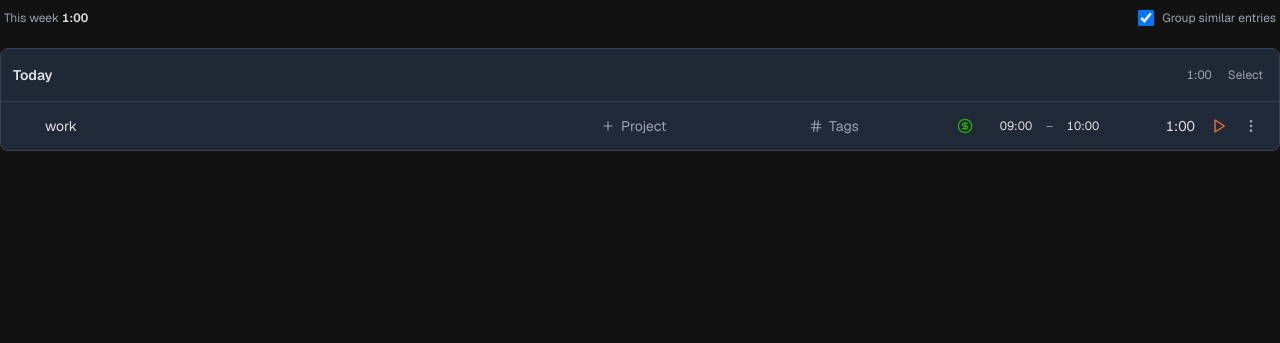
Scenario: creating an entity from an entry row keeps it and the link › a new project is saved, not just referenced
This screenshot has width=1280, height=343.
Click the button "Project": x=693, y=126 [593, 110, 793, 142]
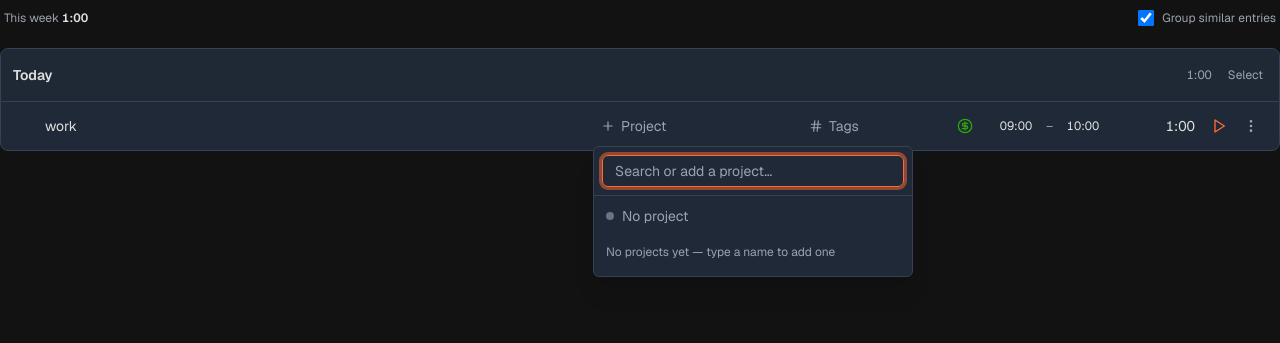
In the field with placeholder "Search or add a project…": x=753, y=171 [602, 155, 904, 187], type "Book"
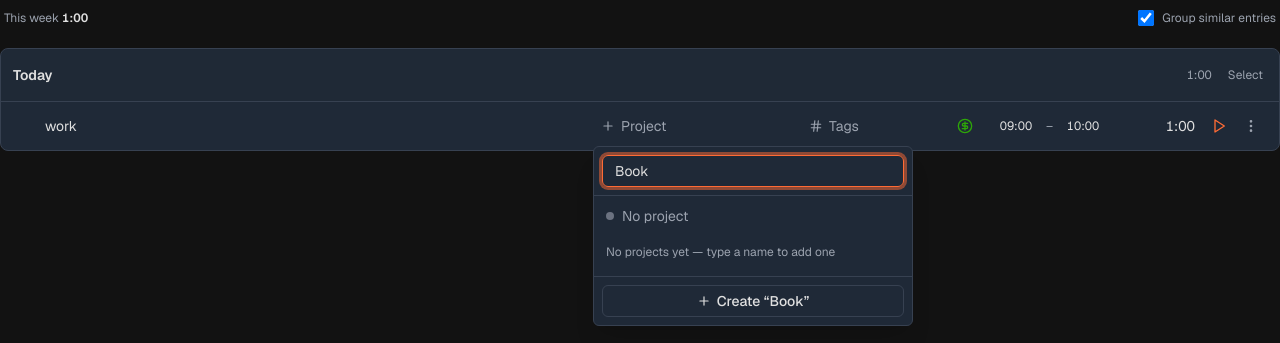
Click the button "Create “Book”": x=753, y=301 [602, 285, 904, 317]
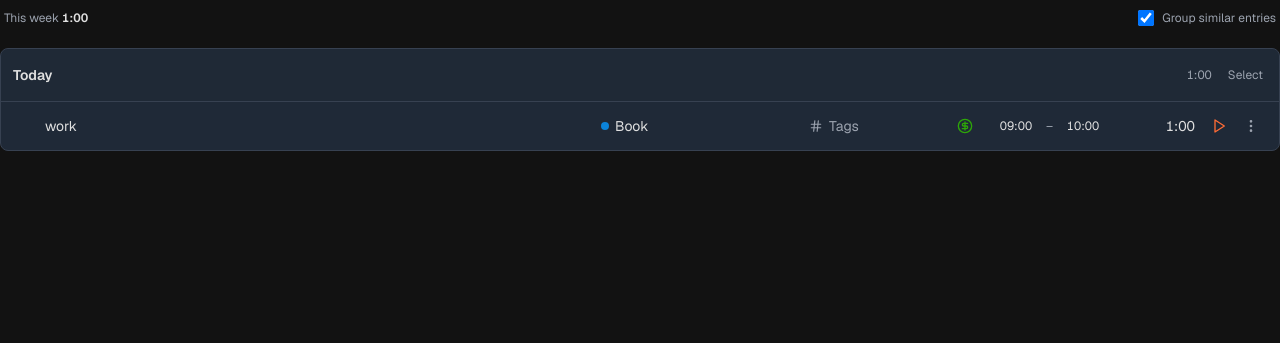
Expected: the text "Book" is shown, [615, 116, 648, 136]
